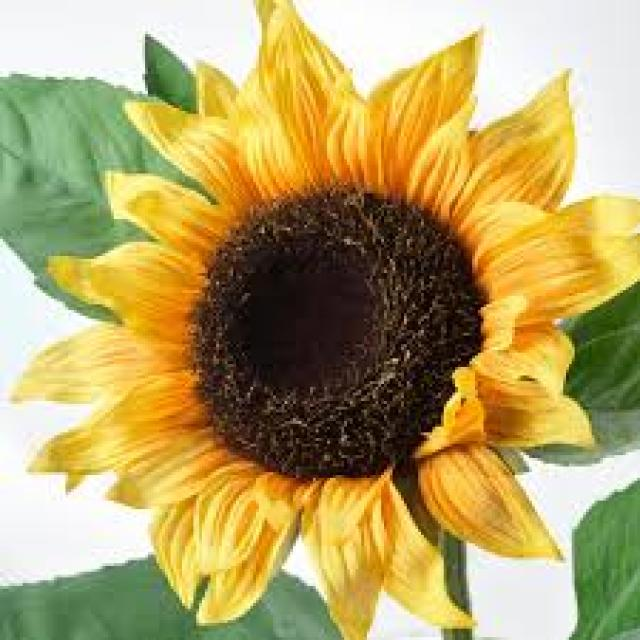sunflower: (5, 14, 640, 640)
